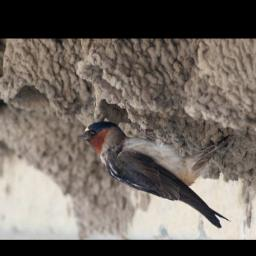Swallow: (75, 120, 235, 229)
